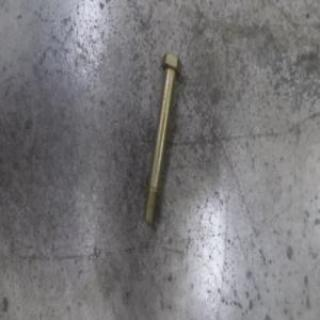Bolttrack_idkeyframe: (142, 51, 181, 226)
